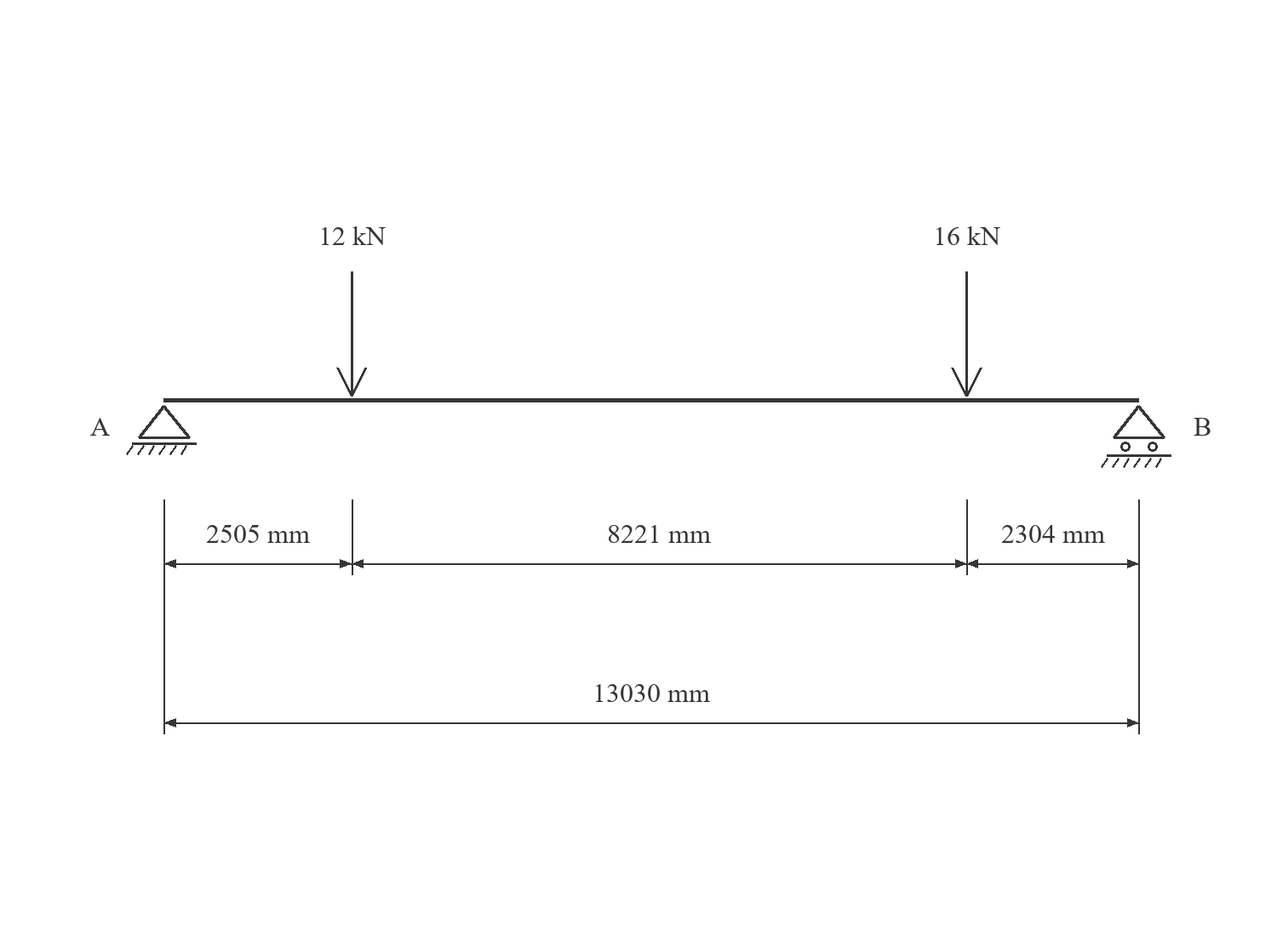pin_support: (126, 405, 197, 455)
point_load: (336, 271, 367, 397), (951, 271, 982, 397)
roller_support: (1101, 405, 1171, 468)
